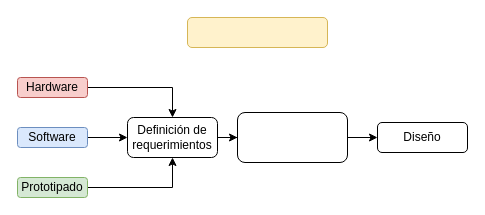
This 485x215 diagram has some shape labels left out. The shapes that lost their labels are listed below. From the top down, each one's centre as x and y in pixels, then its label:
the point at 257,32: Etapa inicial
the point at 292,137: Análisis de precedentes y proyectos ejemplo
